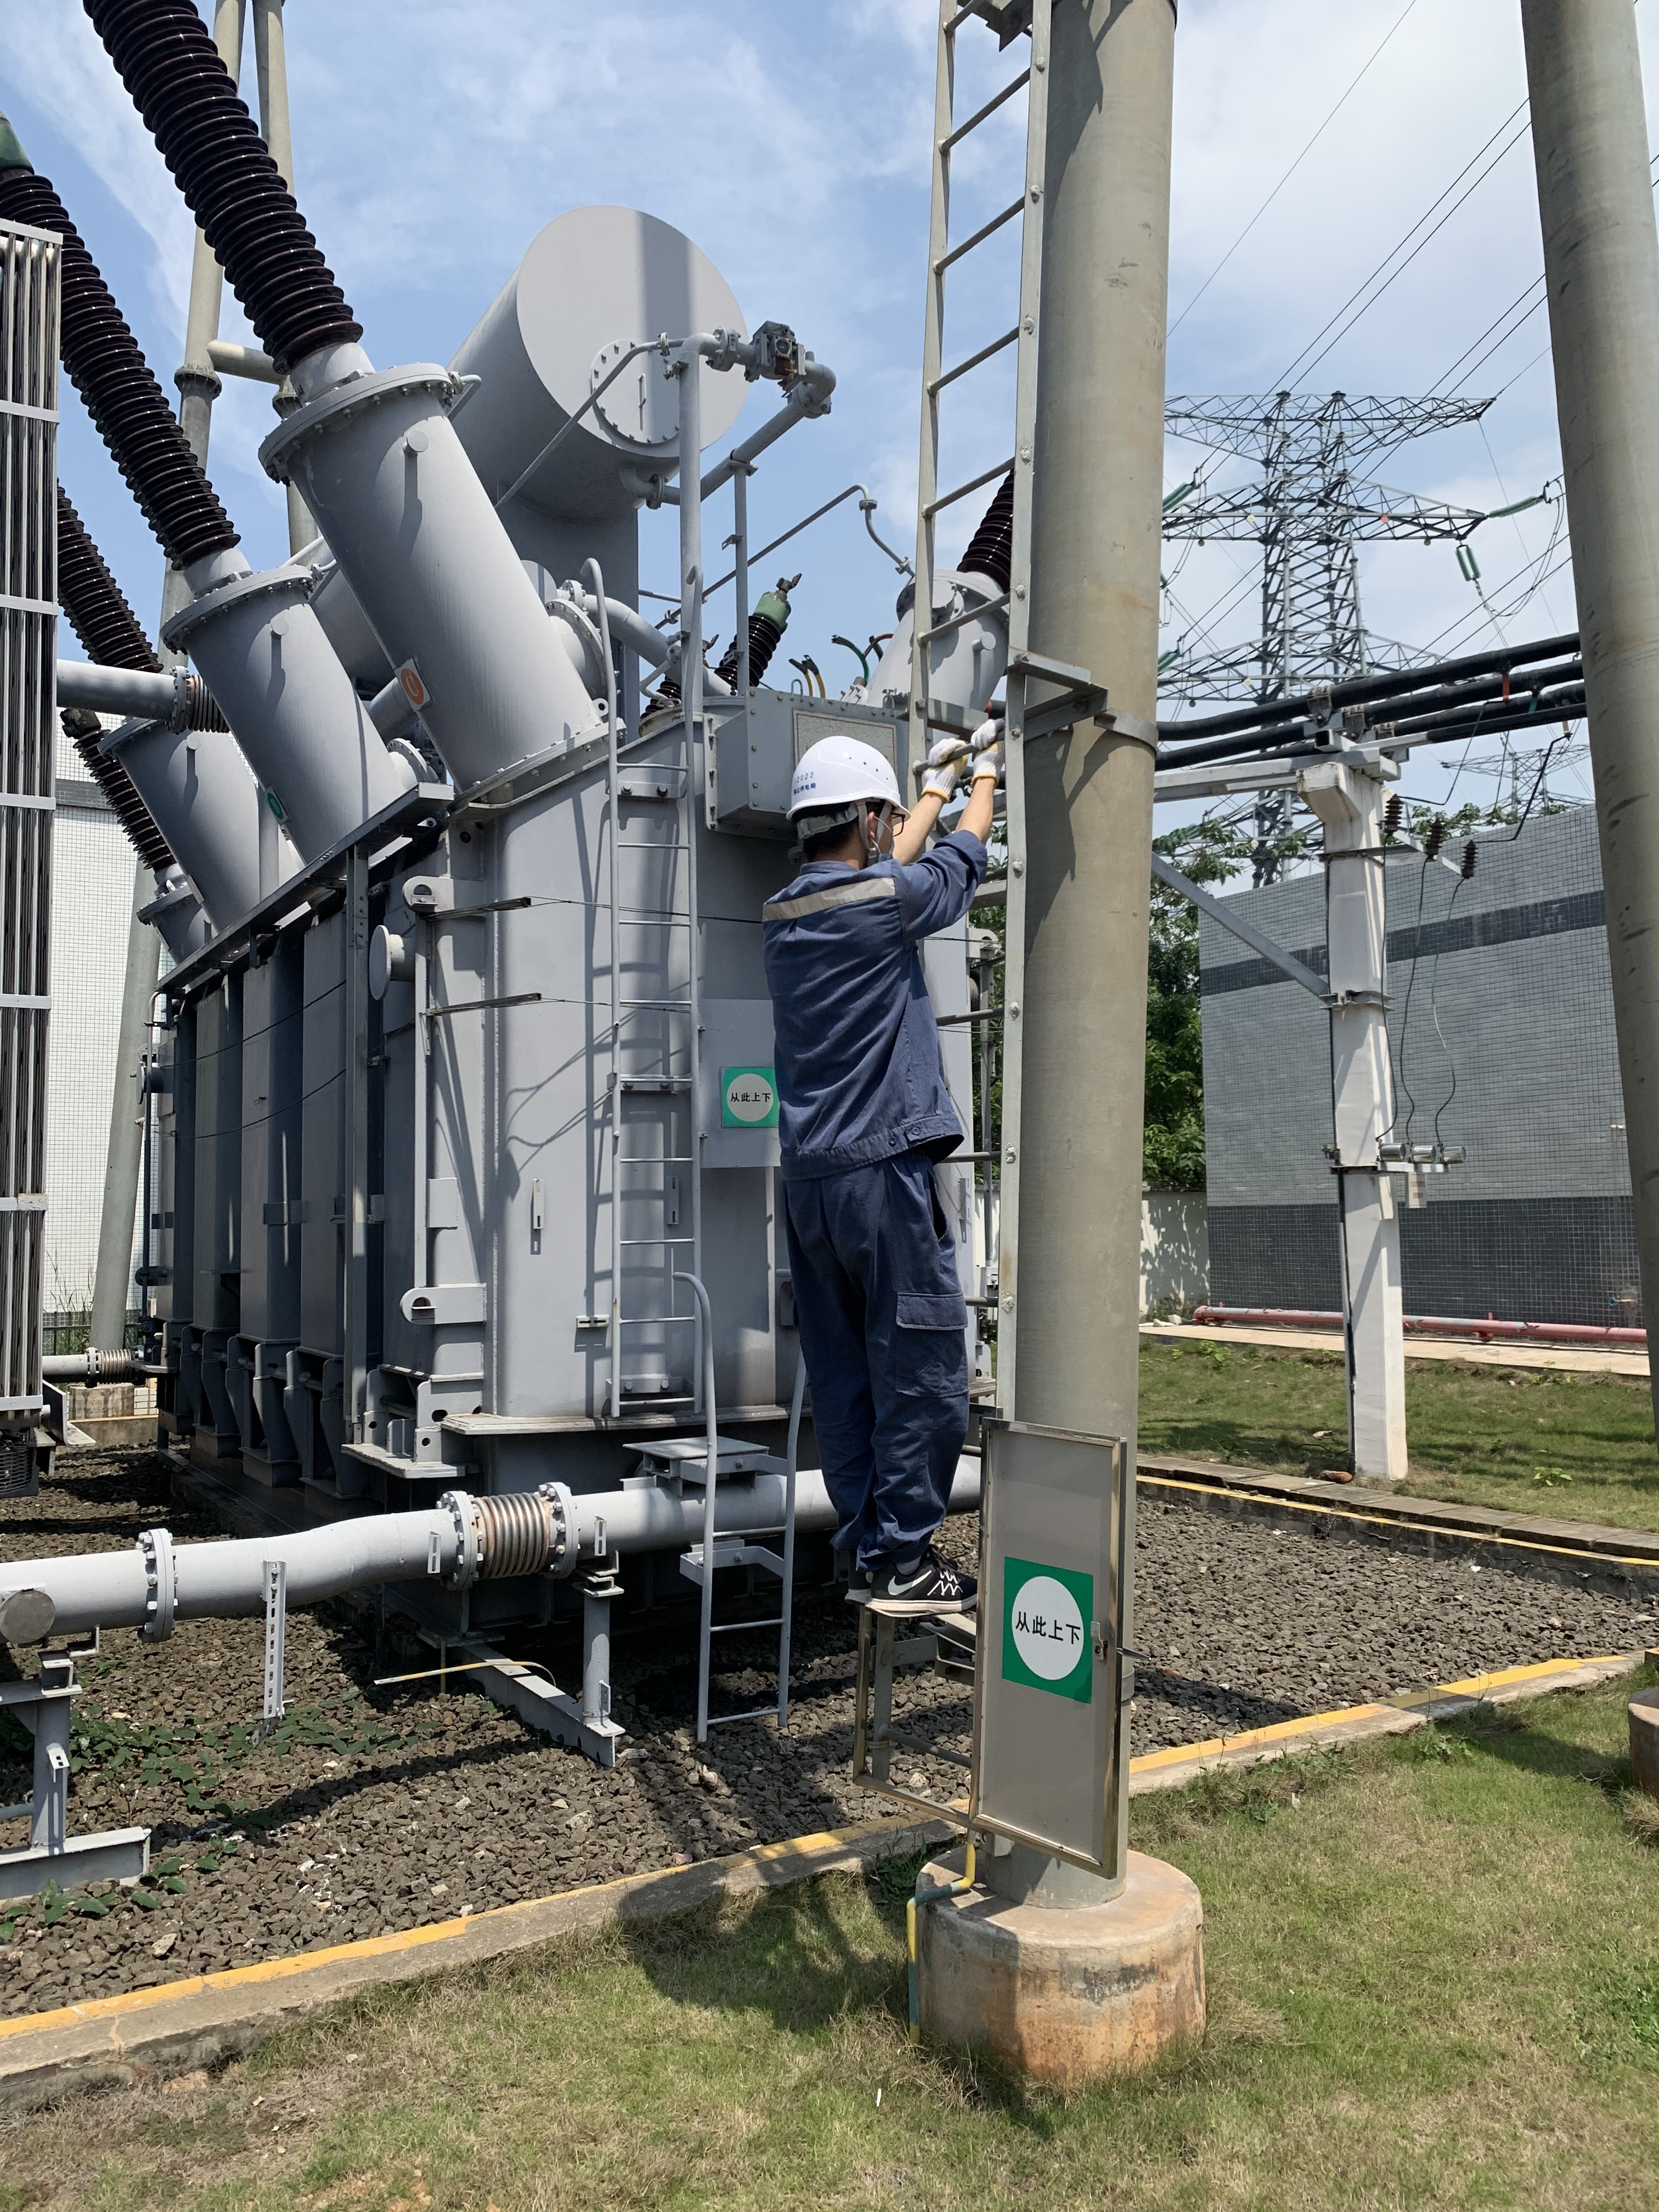downsuit: (779, 1181, 990, 1540)
upsuit: (763, 843, 999, 1137)
wrongtop: (884, 756, 1011, 867), (896, 780, 993, 857)
